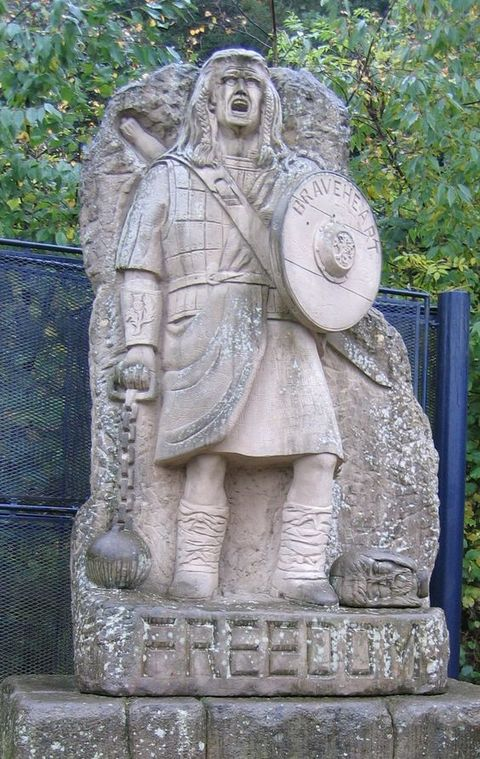person-like: (103, 44, 379, 616)
